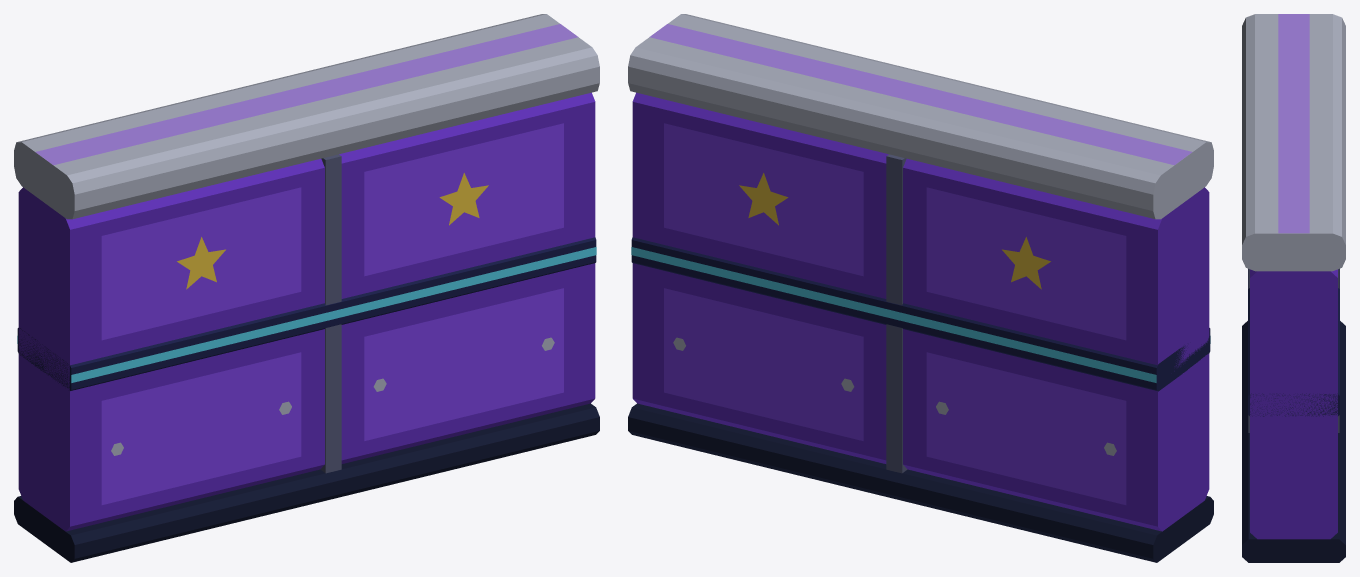
File: space-plotwall1.glb
The picture shows the model from 3 angles, left to right: view 1: azimuth 30°, elevation 25°; view 2: azimuth 150°, elevation 25°; view 3: azimuth 270°, elevation 25°; orthographic projection. The views are drawn at different scales.
Visible parts, largest first — view 1: space-plotwall1; view 2: space-plotwall1; view 3: space-plotwall1.
Boxes of the visible parts, bbox=[...] form: space-plotwall1: bbox=[14, 14, 599, 562]; space-plotwall1: bbox=[628, 14, 1213, 562]; space-plotwall1: bbox=[1242, 14, 1345, 562].
Bounding box in the file's own units: 2 × 1.4 × 0.4.
